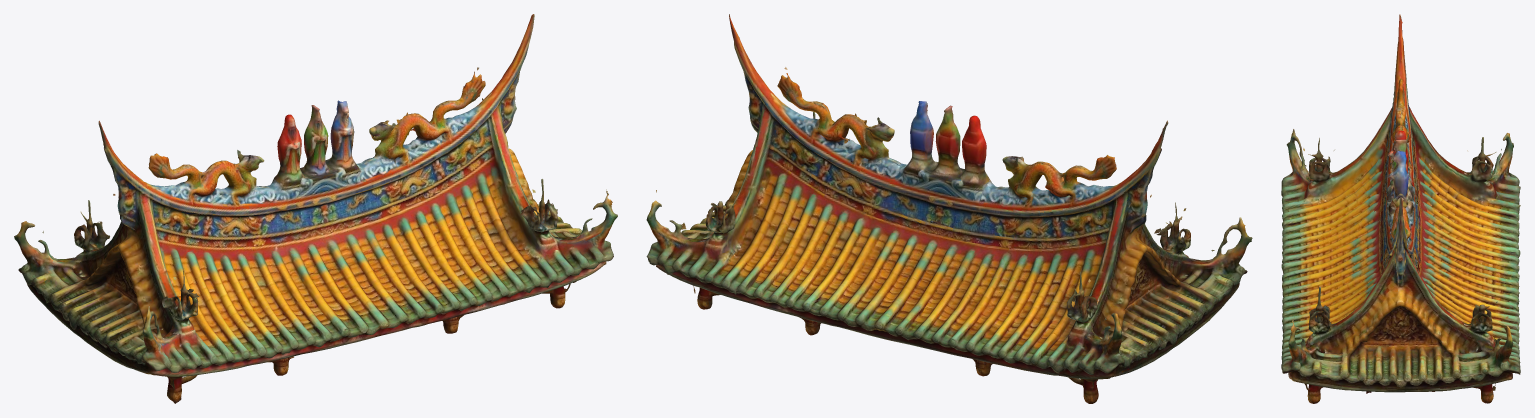
File: roof1.glb
The picture shows the model from 3 angles, left to right: view 1: azimuth 30°, elevation 25°; view 2: azimuth 150°, elevation 25°; view 3: azimuth 270°, elevation 25°; orthographic projection. The views are drawn at different scales.
Bounding box in the file's own units: 0.9773 × 0.4927 × 0.4932.
Materials: 1 (1 with a texture image).
